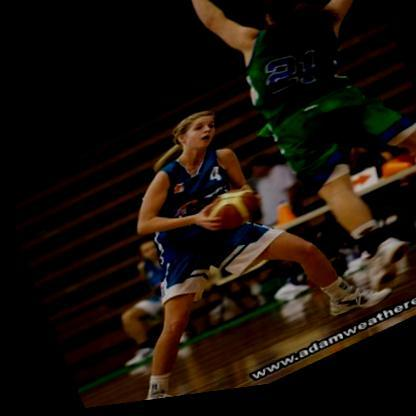basketball: (194, 186, 260, 246)
